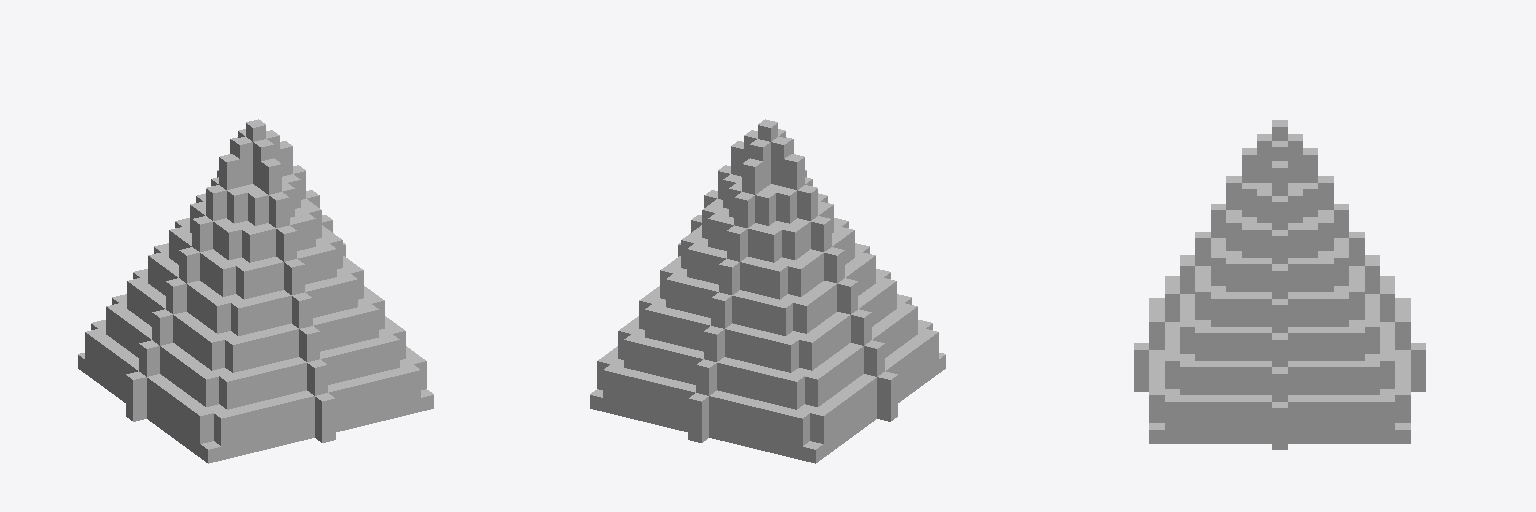
File: red spike.obj
The picture shows the model from 3 angles: view 1: azimuth 30°, elevation 25°; view 2: azimuth 150°, elevation 25°; view 3: azimuth 270°, elevation 25°; orthographic projection.
Bounding box in the file's own units: 19 × 19 × 19.